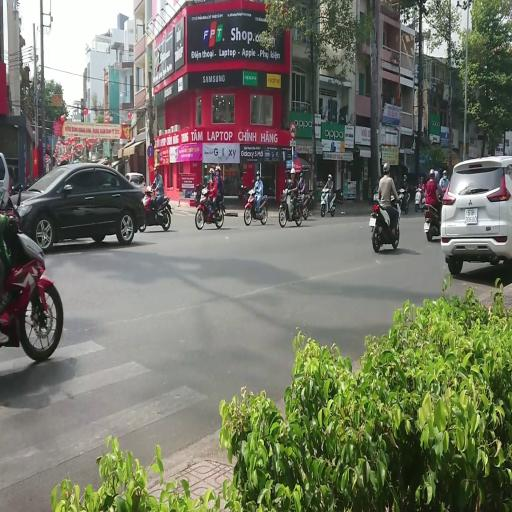bikes: (0, 182, 63, 361), (369, 193, 402, 252), (139, 186, 172, 231), (195, 188, 224, 230), (278, 188, 303, 227), (243, 188, 268, 226), (423, 197, 443, 241), (320, 186, 336, 217), (189, 183, 206, 207), (296, 192, 310, 220), (397, 185, 410, 214), (414, 185, 426, 212), (333, 188, 344, 203), (440, 178, 448, 194)
helmet: (383, 162, 390, 174), (434, 170, 440, 182), (373, 192, 379, 200), (290, 167, 296, 174), (202, 188, 208, 195), (146, 186, 152, 193), (204, 175, 209, 183), (215, 166, 221, 172), (249, 189, 255, 195), (430, 168, 434, 176), (209, 168, 214, 174), (153, 166, 158, 172), (439, 168, 443, 175), (403, 174, 407, 180), (256, 171, 260, 177), (442, 170, 446, 175), (328, 174, 331, 180), (300, 172, 303, 178), (252, 179, 255, 185), (421, 176, 423, 180)
